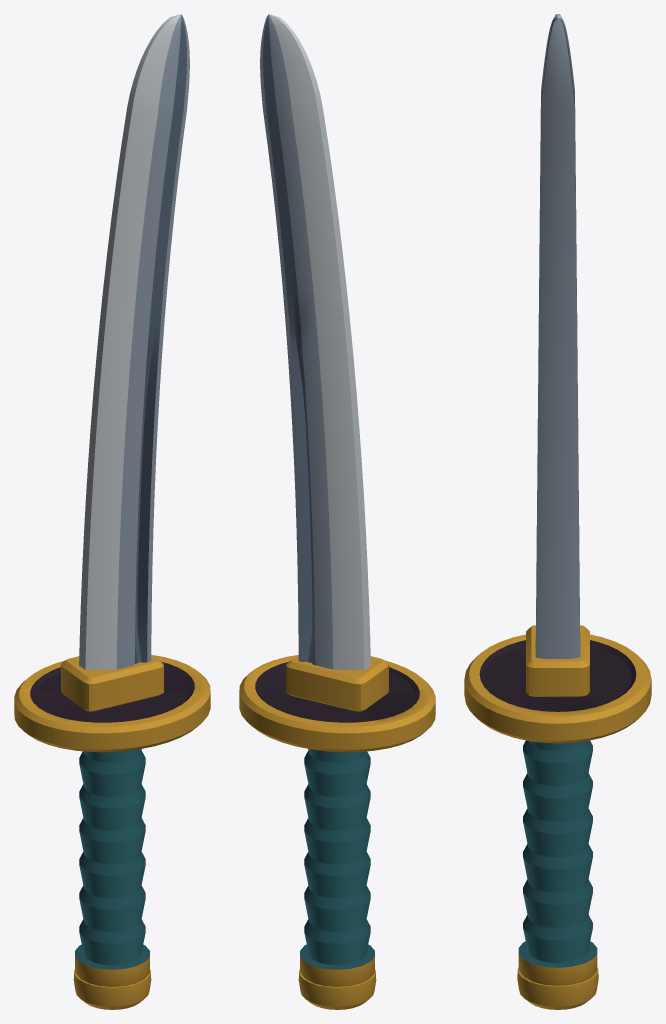
The model's file is Katana_05.glb.
3 views of the same model, side by side, from view 1: azimuth 30°, elevation 25°; view 2: azimuth 150°, elevation 25°; view 3: azimuth 270°, elevation 25° (orthographic). The views are drawn at different scales.
Visible parts, largest first — view 1: Katana_05; view 2: Katana_05; view 3: Katana_05.
Boxes of the visible parts, x1=… form: Katana_05: x1=14, y1=14, x2=210, y2=1009; Katana_05: x1=239, y1=14, x2=435, y2=1009; Katana_05: x1=464, y1=14, x2=651, y2=1009.
Bounding box in the file's own units: 1.24 × 6.53 × 1.09.
